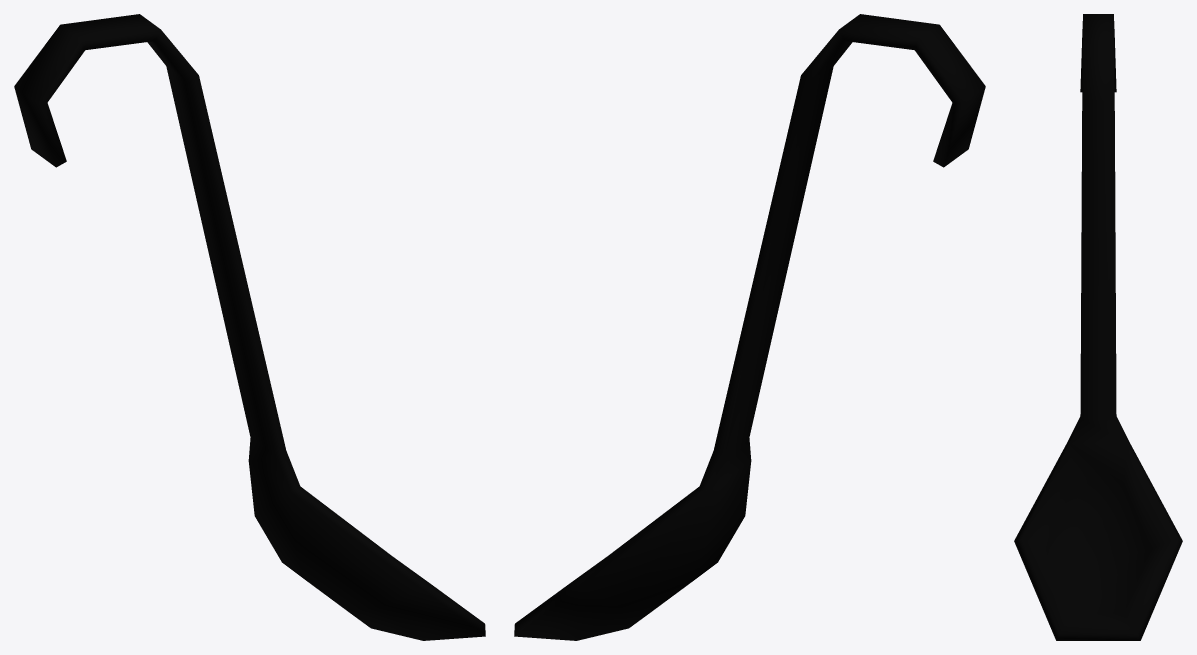
The model's file is Spoon.fbx.
3 renders of one model, left to right at view 1: azimuth 30°, elevation 25°; view 2: azimuth 150°, elevation 25°; view 3: azimuth 270°, elevation 25°, orthographic. The views are drawn at different scales.
Visible parts, largest first — view 1: Spoon; view 2: Spoon; view 3: Spoon.
Boxes of the visible parts, left/top/right/bottom form: Spoon: left=14, top=14, right=485, bottom=640; Spoon: left=514, top=14, right=985, bottom=640; Spoon: left=1014, top=14, right=1182, bottom=640.
Size of the model in its own units: 38.6 by 57.69 by 18.
